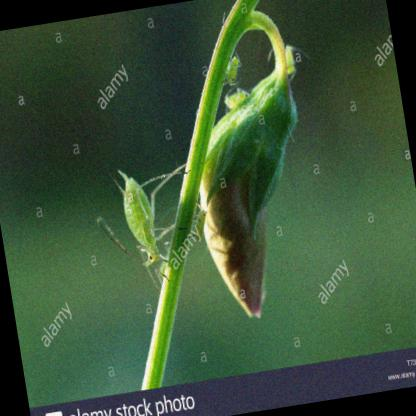schizaphis graminum: (117, 171, 162, 273)
